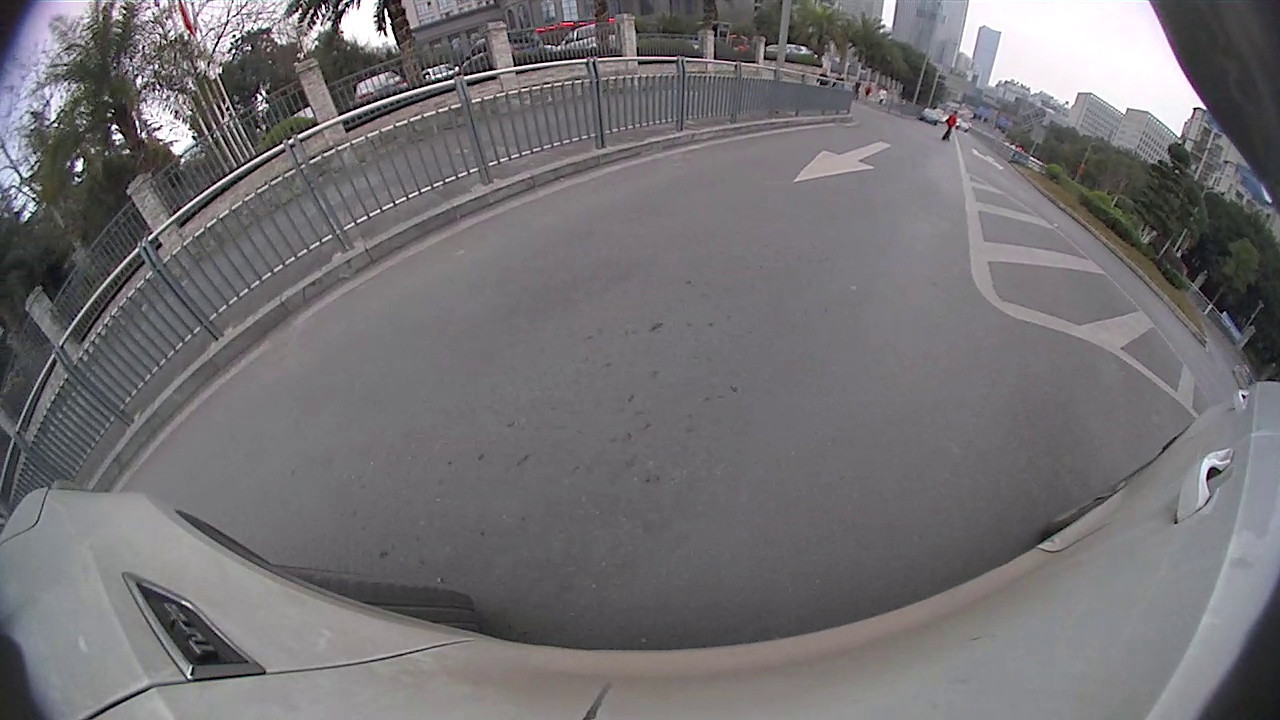person: (943, 108, 958, 143)
